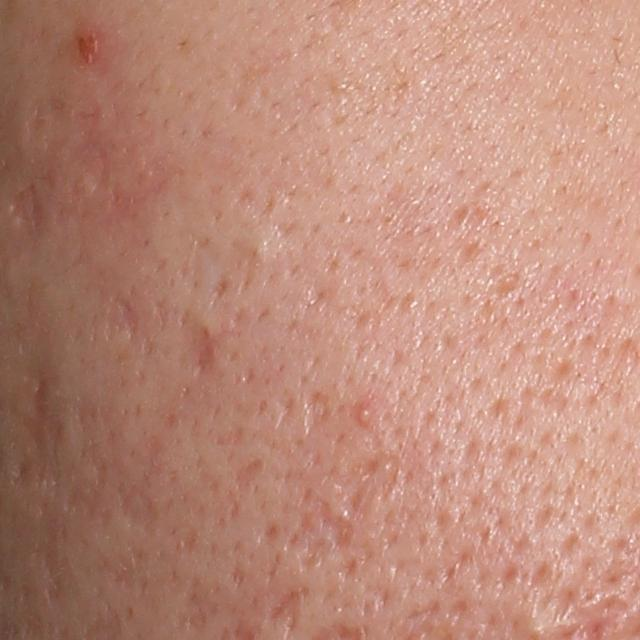atrophic_scar: (17, 89, 102, 206), (11, 373, 68, 493), (288, 501, 330, 579), (175, 567, 220, 635), (182, 314, 224, 382), (123, 472, 161, 536), (311, 497, 355, 552), (103, 292, 144, 343), (8, 178, 42, 233), (304, 389, 341, 436), (231, 452, 266, 492), (256, 517, 284, 551), (227, 558, 246, 587)
papule: (72, 22, 105, 66)
